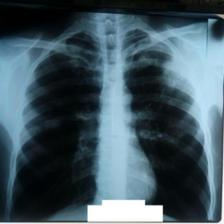tuberculosis: (5, 23, 214, 224)
